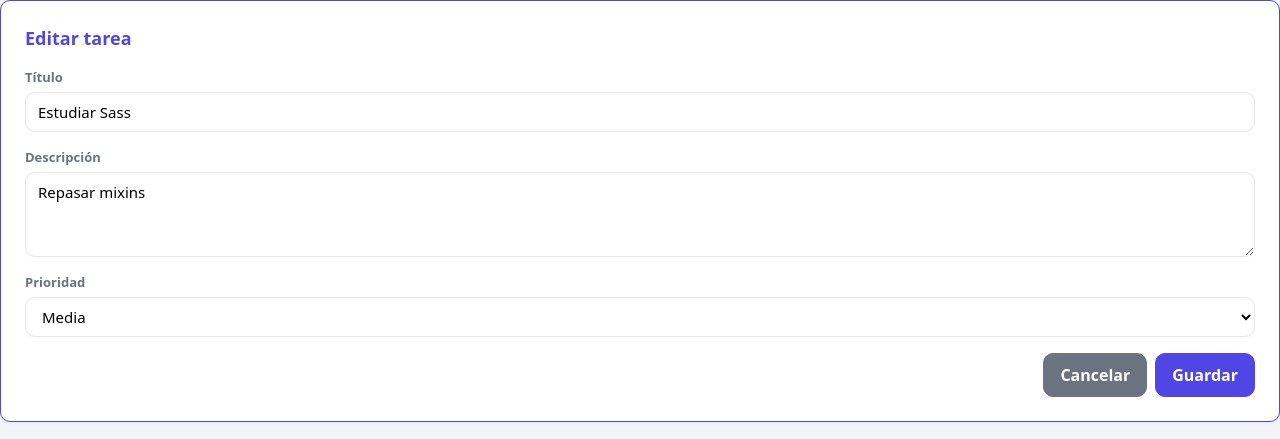
Scenario: TaskForm › cancela la edición y vuelve al modo crear
This screenshot has width=1280, height=439.
Step 1. Click the button "Cancelar" → point(1095, 374), box [1043, 352, 1147, 396]
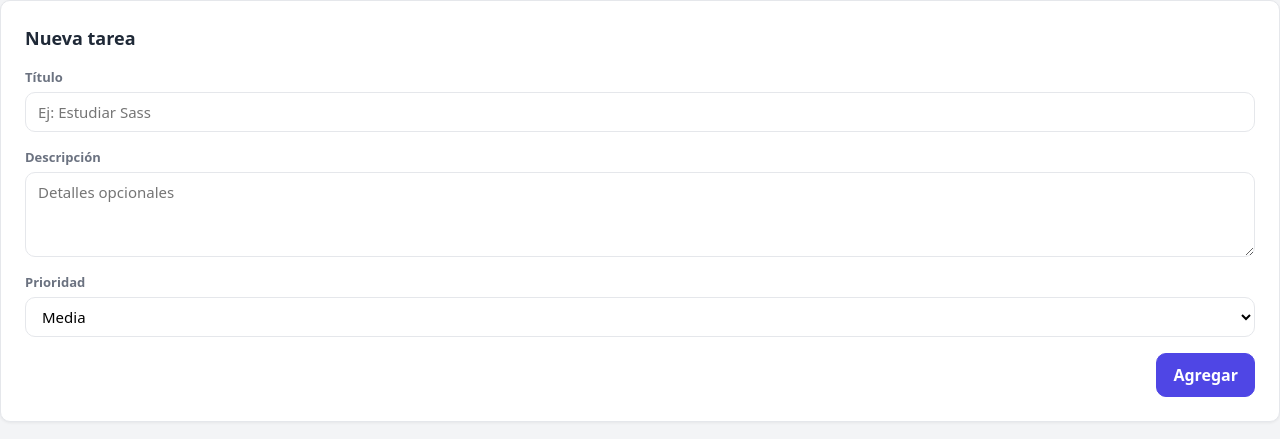
Check: the heading "Nueva tarea" is shown, box [25, 26, 136, 50]
Check: the field labelled "Título" is empty, box [25, 92, 1255, 132]
